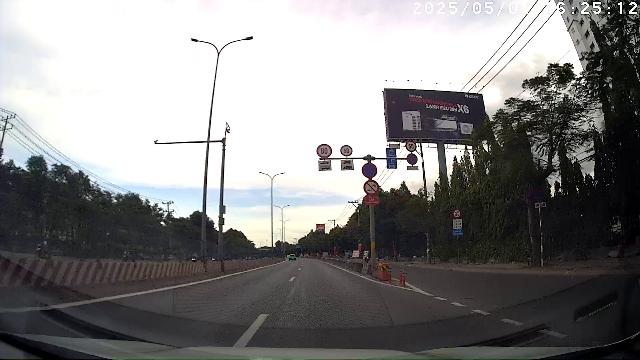127-toc-do-toi-da-50: (405, 141, 417, 152)
127-toc-do-toi-da-60: (340, 144, 353, 156)
127-toc-do-toi-da-80: (316, 143, 333, 157)
130-cam-dung-va-do-xe: (362, 162, 378, 178)
